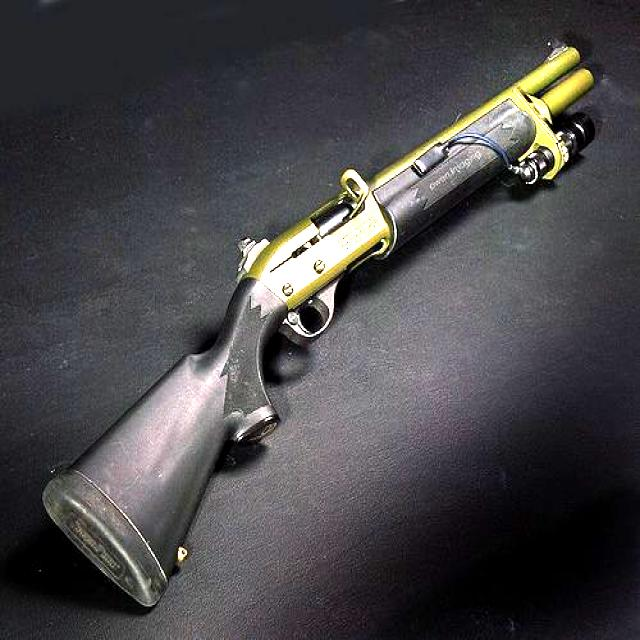shotgun: (0, 30, 634, 640)
